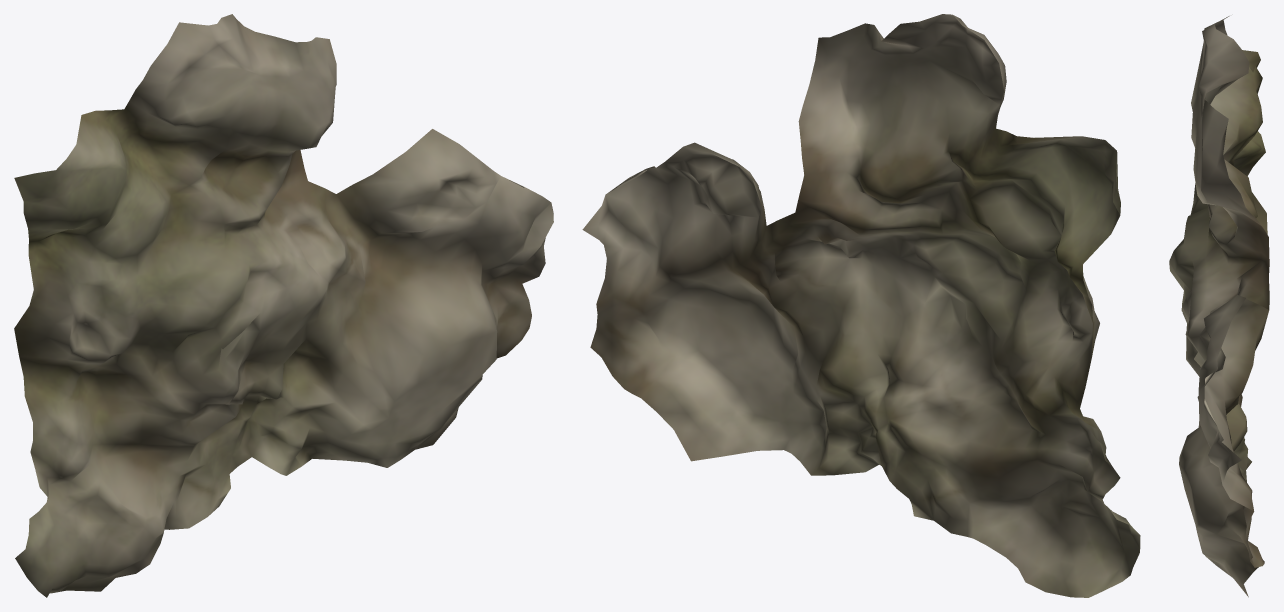
The model's file is Barnacle01.fbx.
The picture shows the model from 3 angles, left to right: view 1: azimuth 30°, elevation 25°; view 2: azimuth 150°, elevation 25°; view 3: azimuth 270°, elevation 25°; orthographic projection. The views are drawn at different scales.
Parts seen in each view (by area): view 1: Barnacle01; view 2: Barnacle01; view 3: Barnacle01.
Boxes of the visible parts, x1,y1,x2,y2 form: Barnacle01: [14, 14, 553, 597]; Barnacle01: [582, 14, 1140, 597]; Barnacle01: [1169, 16, 1269, 597].
Size of the model in its own units: 53.06 by 50.94 by 9.02.
